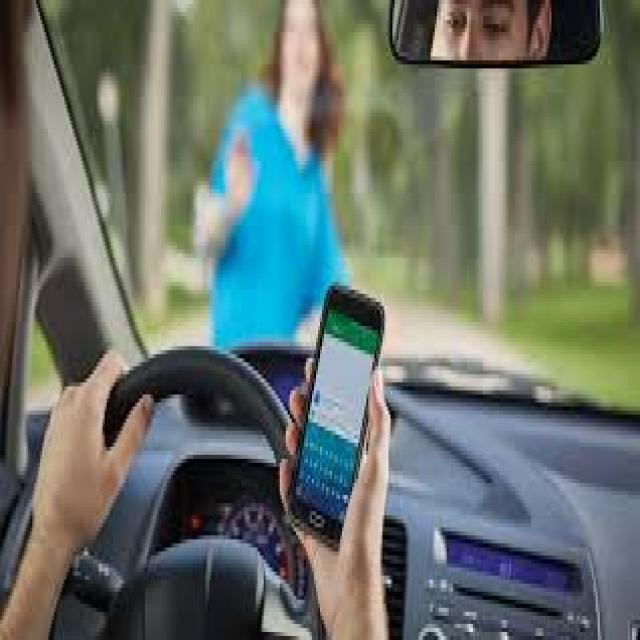Cellphone_texting: (276, 270, 394, 636)
